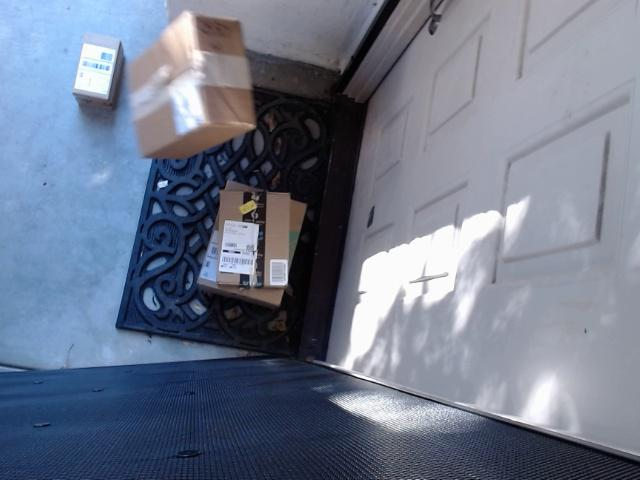box: (125, 15, 277, 175), (189, 164, 321, 328), (209, 182, 307, 291), (63, 28, 129, 123)
